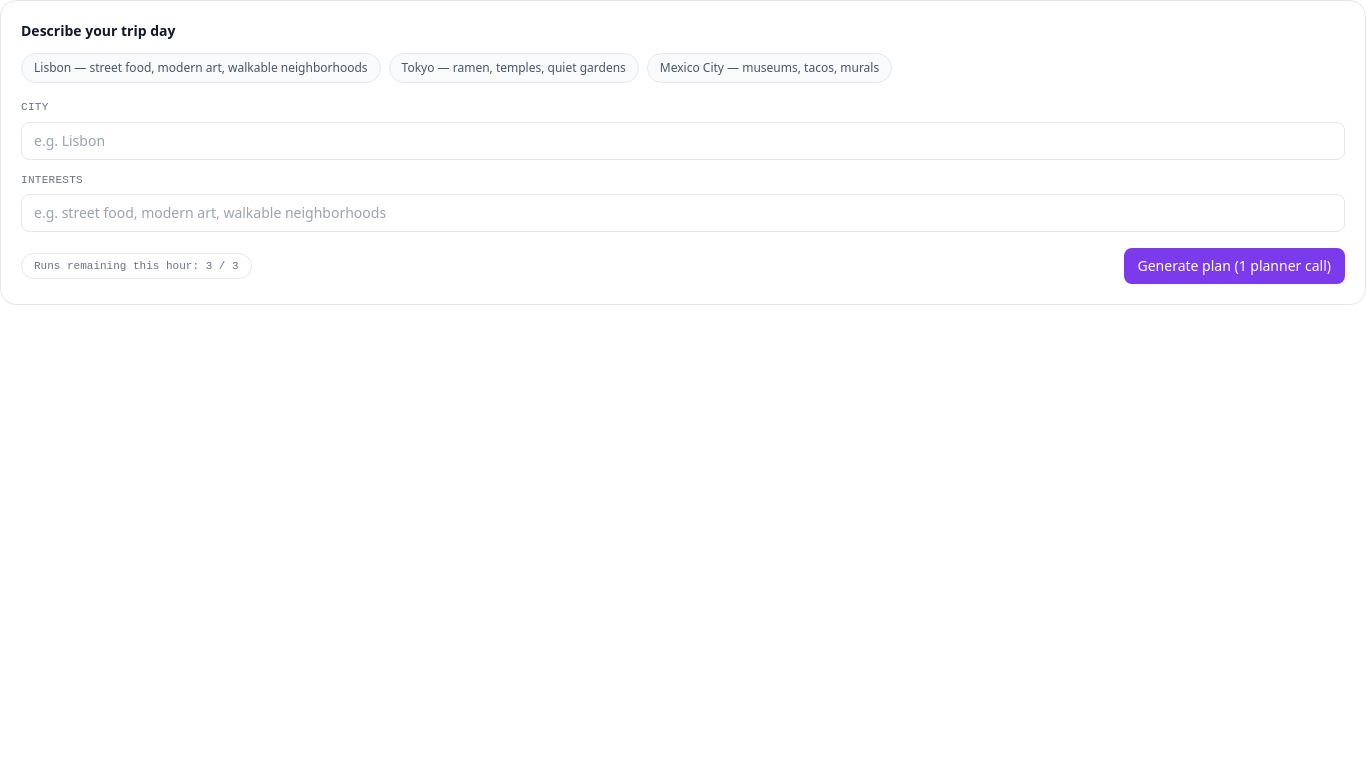
Scenario: the plan review gate › renders the plan with each step purpose and query before anything runs
Type "Lisbon" into the field labelled "City" at (683, 140), box [21,122,1345,160]
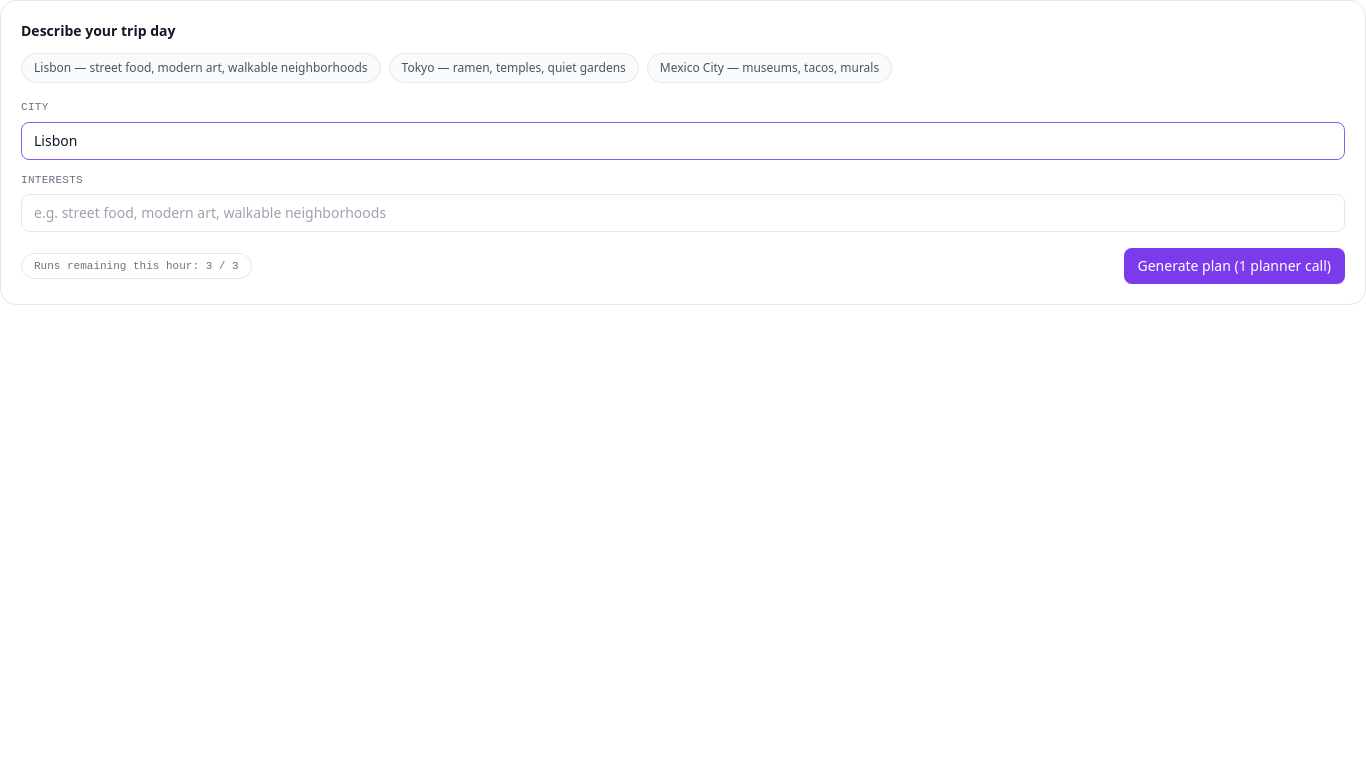
Type "street food, modern art" into the field labelled "Interests" at (683, 213), box [21,194,1345,232]
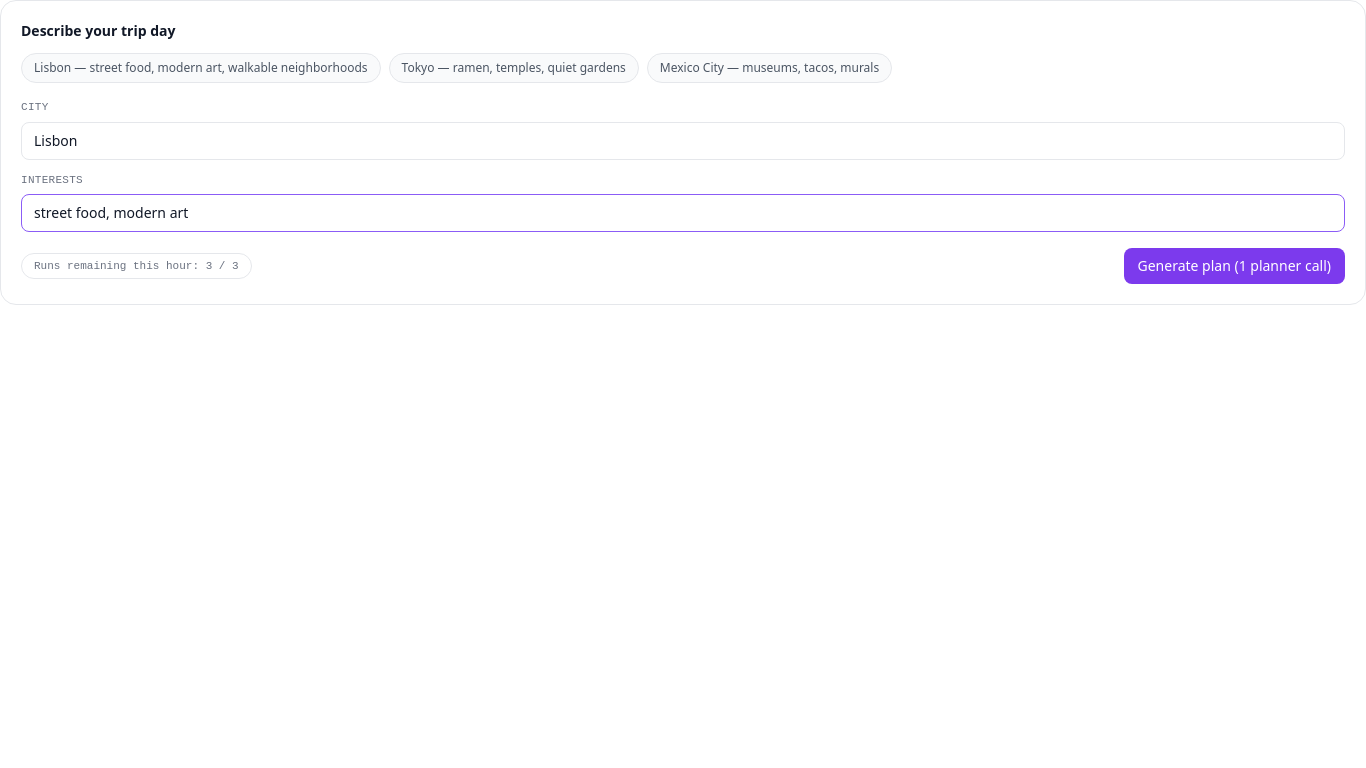
Click the button "Generate plan (1 planner call)" at (1234, 266), box [1124,248,1345,284]
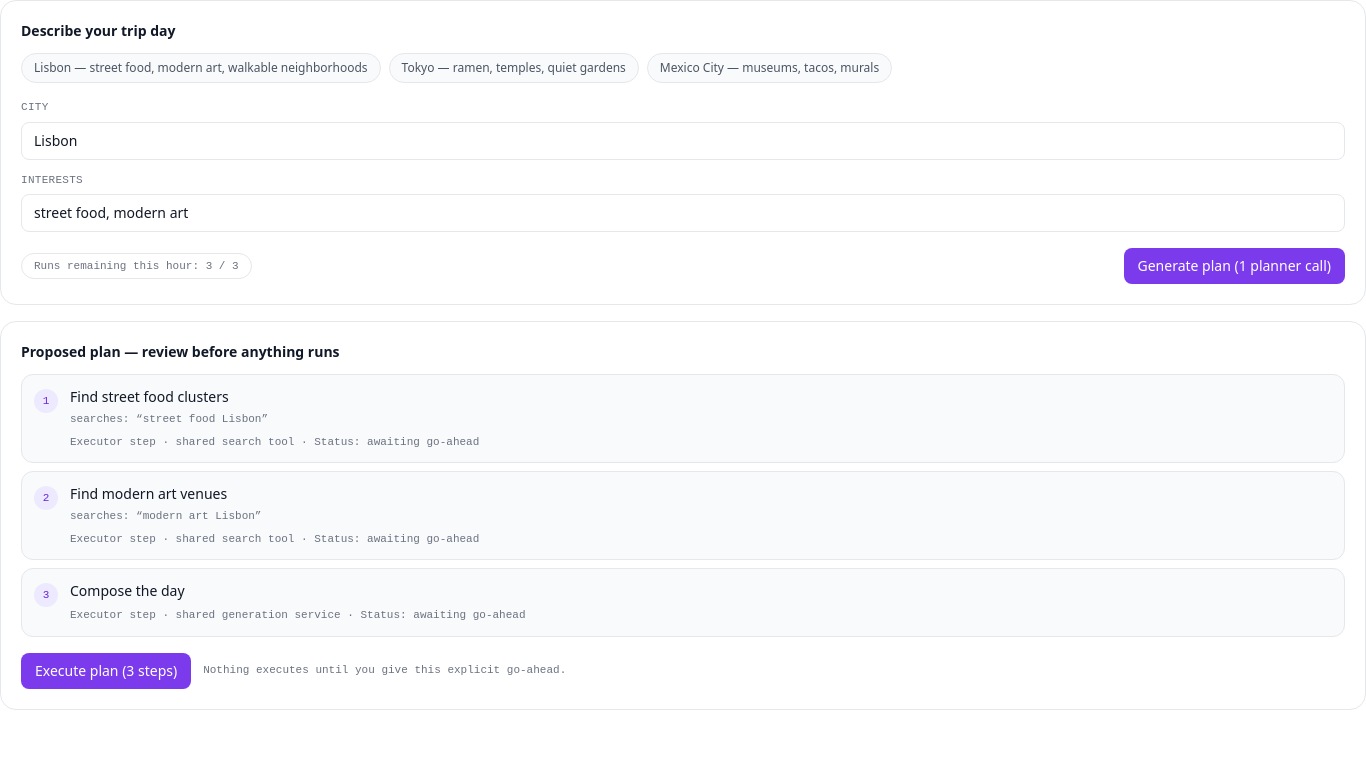
expect the text "Find street food clusters" is shown: met, box [70,387,229,406]
expect the text "searches: “street food Lisbon”" is shown: met, box [70,413,268,425]
expect the text "awaiting go-ahead" is shown 3 times: met, box [70,436,479,448]; [70,532,479,544]; [70,609,526,621]
